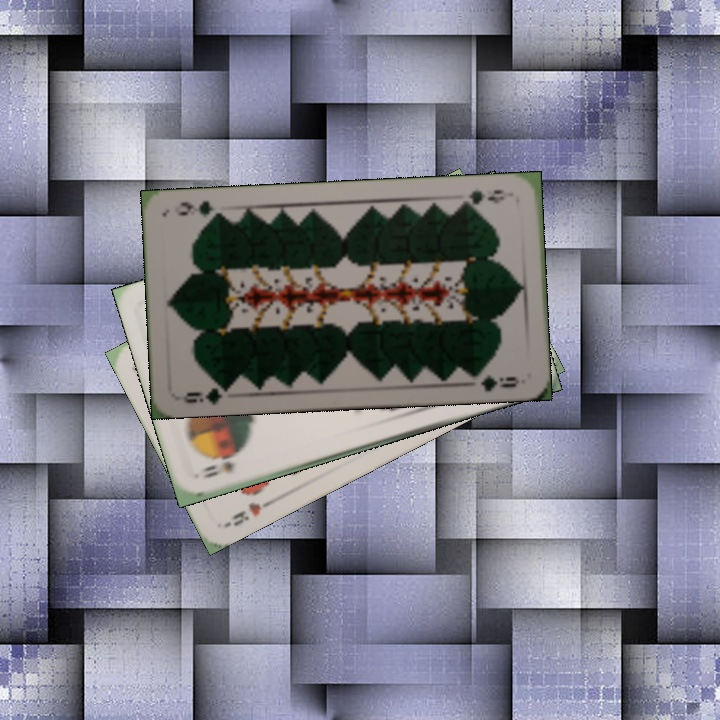G9: (176, 379, 234, 407), (457, 185, 515, 209)
H9: (228, 495, 277, 529)
SO: (197, 456, 238, 481)
